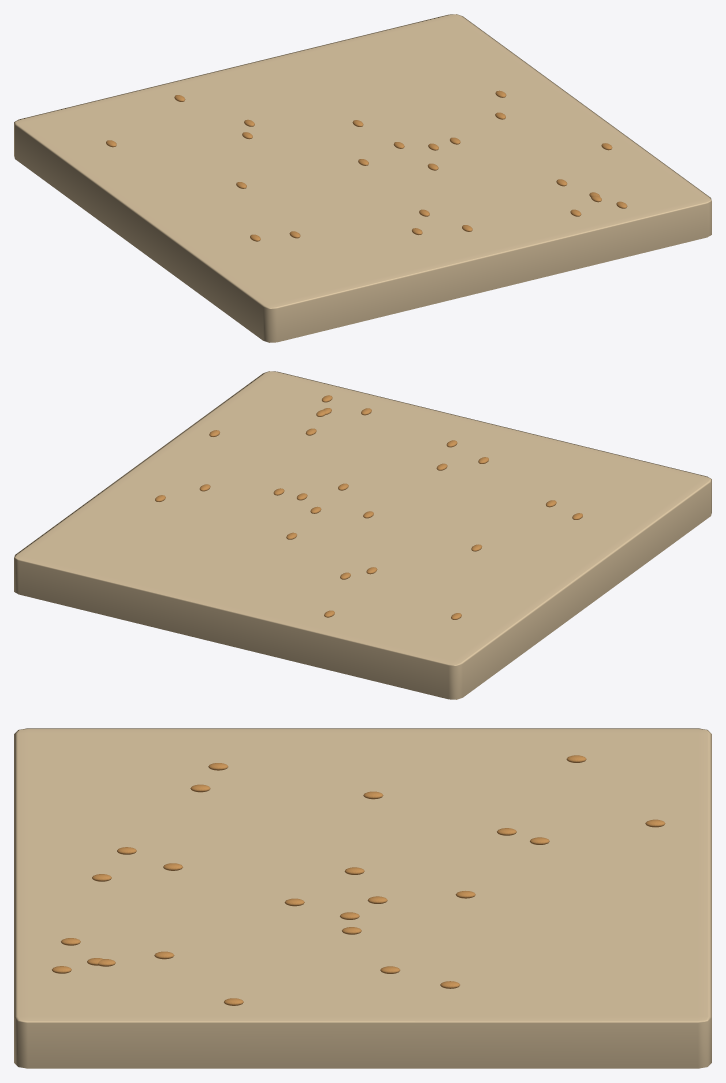
Rendered from floor_sand_2m.glb.
3 views of the same model, one above another, from view 1: azimuth 30°, elevation 25°; view 2: azimuth 150°, elevation 25°; view 3: azimuth 270°, elevation 25° (orthographic). The views are drawn at different scales.
Visible parts, largest first — view 1: Sand tile; view 2: Sand tile; view 3: Sand tile.
Part boxes in pixels (bbox=[...]): Sand tile: bbox=[14, 14, 711, 342]; Sand tile: bbox=[14, 371, 711, 699]; Sand tile: bbox=[14, 728, 711, 1068].
Size of the model in its own units: 2 by 0.165 by 2.
Materials: 2 (1 with a texture image).
